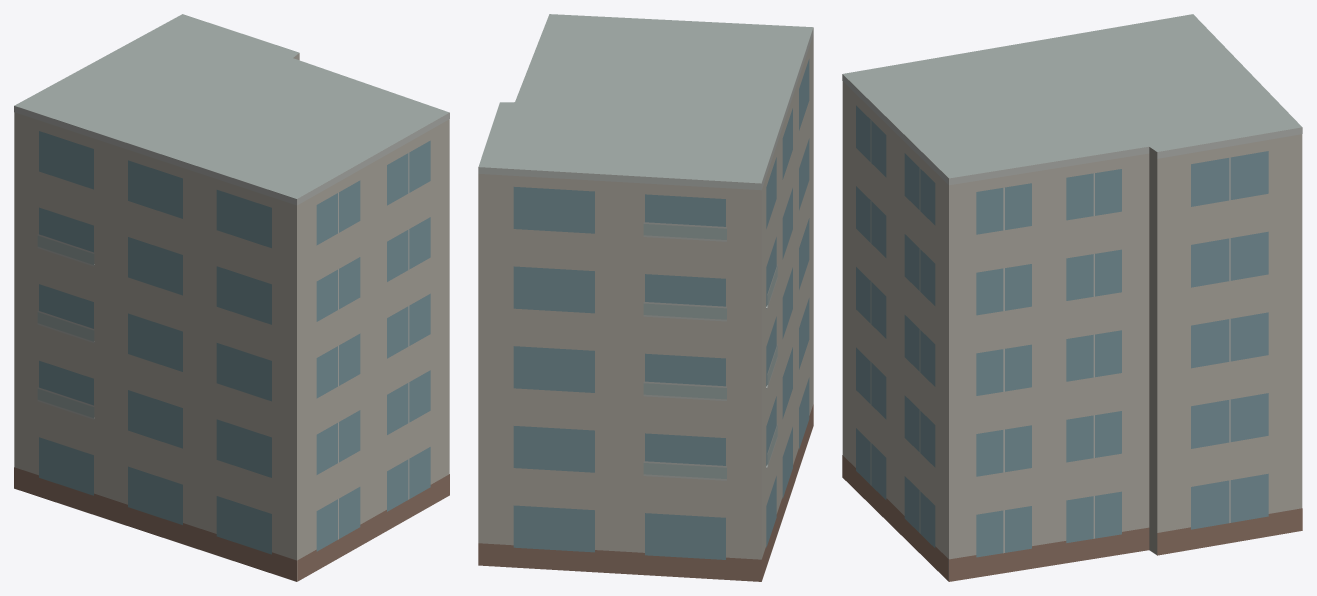
The model's file is survey-upis-32957516.glb.
3 renders of one model, left to right at view 1: azimuth 30°, elevation 25°; view 2: azimuth 150°, elevation 25°; view 3: azimuth 270°, elevation 25°, orthographic. The views are drawn at different scales.
Parts seen in each view (by area): view 1: survey-upis-32957516.tmp; view 2: survey-upis-32957516.tmp; view 3: survey-upis-32957516.tmp.
Part boxes in pixels (<box>): survey-upis-32957516.tmp: <box>14,14,449,581</box>; survey-upis-32957516.tmp: <box>478,14,813,581</box>; survey-upis-32957516.tmp: <box>842,14,1302,581</box>.
Bounding box in the file's own units: 12.64 × 14.45 × 14.94.
